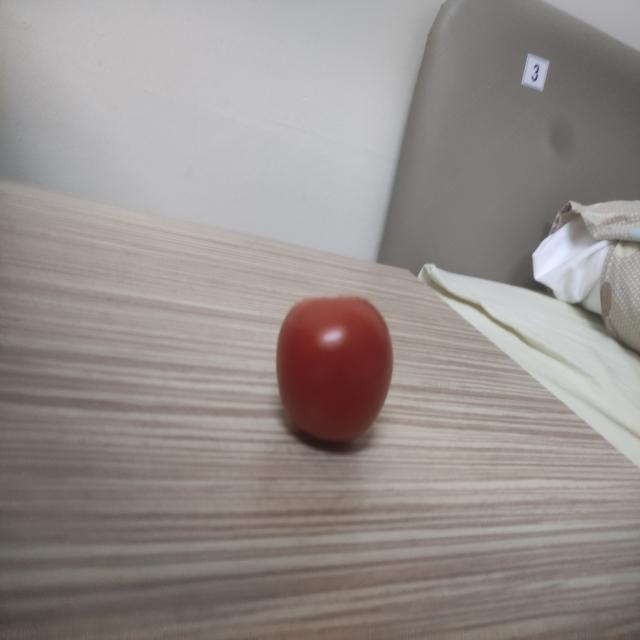kirmizi: (269, 282, 400, 465)
